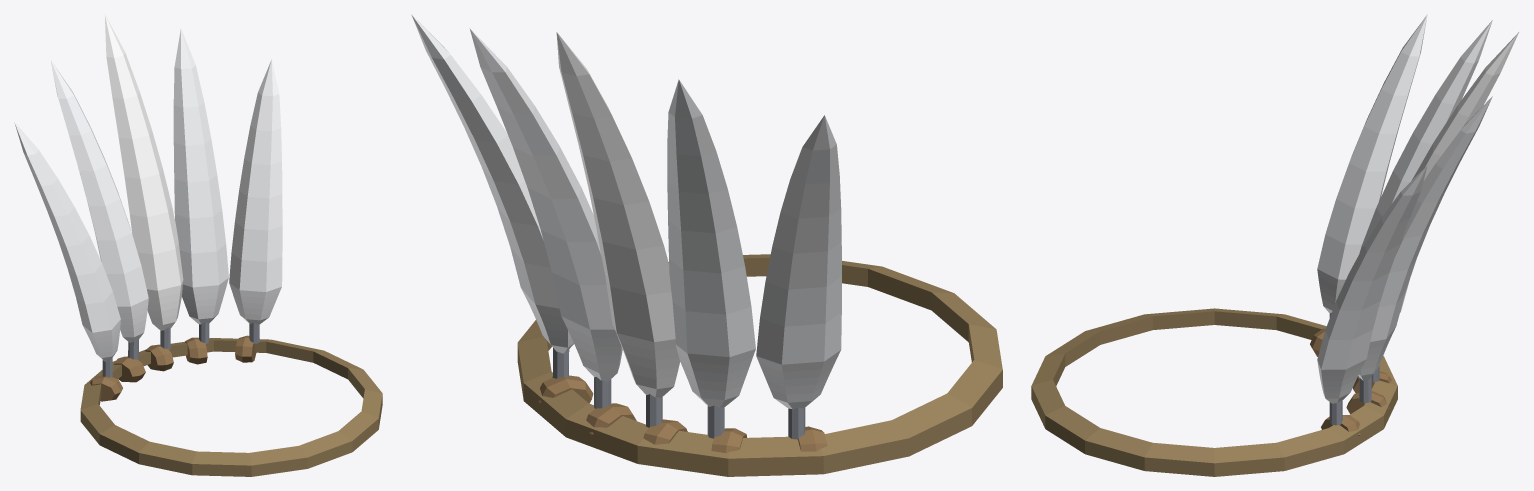
The model's file is Cosmetic_FeatherCrown_Default.glb.
3 views of the same model, side by side, from view 1: azimuth 30°, elevation 25°; view 2: azimuth 150°, elevation 25°; view 3: azimuth 270°, elevation 25° (orthographic). The views are drawn at different scales.
Visible parts, largest first — view 1: FCV_Default_Band, FCV_Default_F_72, FCV_Default_F_90, FCV_Default_F_50, FCV_Default_F_108, FCV_Default_F_130, FCV_Default_FB_72, FCV_Default_FB_90, FCV_Default_FB_50, FCV_Default_FB_108, FCV_Default_FB_130, FCV_Default_Wrap_108 (+4 smaller); view 2: FCV_Default_Band, FCV_Default_F_108, FCV_Default_F_90, FCV_Default_F_130, FCV_Default_F_72, FCV_Default_F_50, FCV_Default_FB_108, FCV_Default_FB_90, FCV_Default_FB_130, FCV_Default_FB_72, FCV_Default_FB_50, FCV_Default_Wrap_50 (+3 smaller); view 3: FCV_Default_Band, FCV_Default_F_130, FCV_Default_F_50, FCV_Default_F_72, FCV_Default_F_108, FCV_Default_F_90, FCV_Default_FB_50, FCV_Default_FB_130, FCV_Default_FB_72.
Boxes of the visible parts, x1,y1,x2,y2 form: FCV_Default_Band: (80, 338, 382, 476); FCV_Default_F_72: (173, 28, 228, 287); FCV_Default_F_90: (104, 14, 183, 290); FCV_Default_F_50: (229, 59, 282, 291); FCV_Default_F_108: (50, 60, 148, 306); FCV_Default_F_130: (14, 122, 120, 332); FCV_Default_FB_72: (182, 278, 228, 324); FCV_Default_FB_90: (147, 281, 183, 330); FCV_Default_FB_50: (229, 283, 281, 324); FCV_Default_FB_108: (117, 298, 148, 342); FCV_Default_FB_130: (83, 319, 120, 361); FCV_Default_Wrap_108: (114, 356, 145, 382); FCV_Default_Band: (517, 254, 1002, 476); FCV_Default_F_108: (667, 79, 755, 357); FCV_Default_F_90: (556, 32, 675, 342); FCV_Default_F_130: (756, 115, 841, 364); FCV_Default_F_72: (469, 28, 614, 329); FCV_Default_F_50: (411, 14, 559, 308); FCV_Default_FB_108: (675, 345, 755, 407); FCV_Default_FB_90: (614, 328, 680, 397); FCV_Default_FB_130: (756, 350, 840, 409); FCV_Default_FB_72: (561, 316, 622, 381); FCV_Default_FB_50: (521, 288, 573, 353); FCV_Default_Wrap_50: (538, 375, 593, 403); FCV_Default_Band: (1031, 308, 1397, 476); FCV_Default_F_130: (1317, 14, 1427, 279); FCV_Default_F_50: (1317, 165, 1427, 369); FCV_Default_F_72: (1370, 96, 1492, 341); FCV_Default_F_108: (1359, 20, 1492, 253); FCV_Default_F_90: (1400, 32, 1518, 310); FCV_Default_FB_50: (1317, 359, 1366, 403); FCV_Default_FB_130: (1317, 269, 1345, 313); FCV_Default_FB_72: (1358, 327, 1395, 380).
Bounding box in the file's own units: 0.34 × 0.381 × 0.4529.
